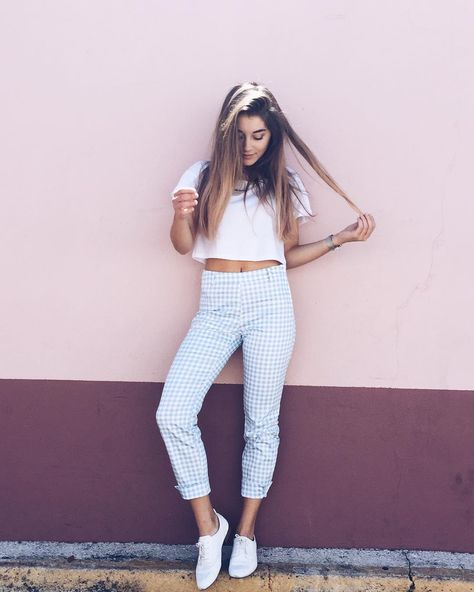person: (138, 74, 383, 585)
